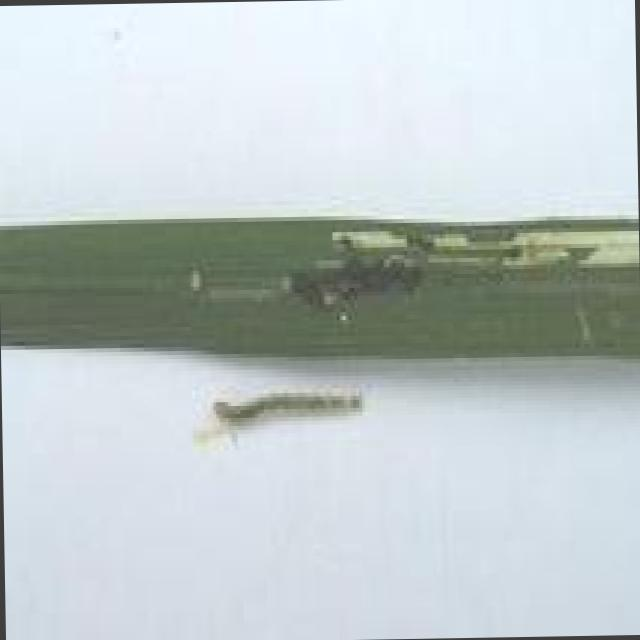leaf folder: (193, 388, 363, 448)
